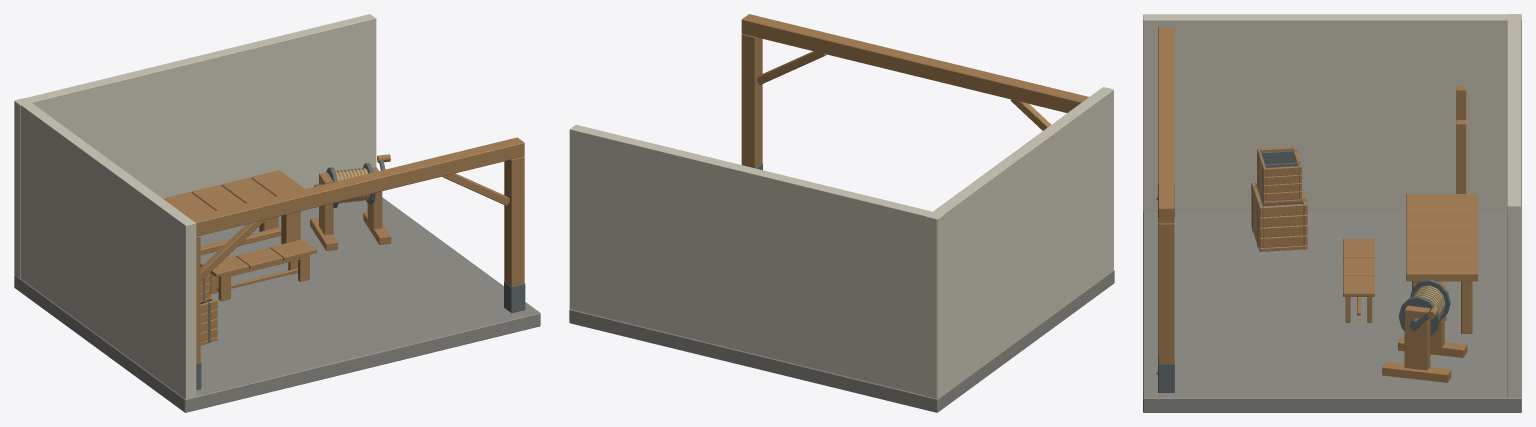
The picture shows the model from 3 angles, left to right: view 1: azimuth 30°, elevation 25°; view 2: azimuth 150°, elevation 25°; view 3: azimuth 270°, elevation 25°; orthographic projection. The views are drawn at different scales.
Visible parts, largest first — view 1: floor__ground, rear__wall, side__wall, front_frame__lintel, front_frame, table, bench, hand_winch, front_frame__knee_brace_-1, storage_lower, front_frame__post_-1, table__lower_stretcher (+2 smaller); view 2: rear__wall, side__wall, floor__ground, front_frame__lintel, front_frame; view 3: side__wall, floor__ground, table, rear__wall, front_frame__lintel, front_frame, storage_lower, hand_winch, bench, storage_upper, hand_winch__skid_right, spare_timber_1__beam (+5 smaller).
Boxes of the visible parts, x1=… form: floor__ground: x1=14, y1=197, x2=540, y2=412; rear__wall: x1=14, y1=14, x2=376, y2=278; side__wall: x1=15, y1=98, x2=196, y2=399; front_frame__lintel: x1=189, y1=137, x2=524, y2=236; front_frame: x1=442, y1=156, x2=525, y2=313; table: x1=163, y1=170, x2=304, y2=231; bench: x1=203, y1=239, x2=316, y2=293; hand_winch: x1=335, y1=163, x2=382, y2=233; front_frame__knee_brace_-1: x1=200, y1=220, x2=264, y2=280; storage_lower: x1=200, y1=297, x2=217, y2=343; front_frame__post_-1: x1=196, y1=235, x2=200, y2=363; table__lower_stretcher: x1=200, y1=227, x2=281, y2=255; rear__wall: x1=569, y1=124, x2=944, y2=398; side__wall: x1=926, y1=87, x2=1113, y2=398; floor__ground: x1=569, y1=269, x2=1114, y2=412; front_frame__lintel: x1=741, y1=14, x2=1088, y2=112; front_frame: x1=741, y1=34, x2=826, y2=170; side__wall: x1=1143, y1=14, x2=1521, y2=211; floor__ground: x1=1143, y1=212, x2=1521, y2=412; table: x1=1406, y1=194, x2=1478, y2=333; rear__wall: x1=1507, y1=14, x2=1520, y2=397; front_frame__lintel: x1=1158, y1=26, x2=1174, y2=223; front_frame: x1=1156, y1=223, x2=1174, y2=392; storage_lower: x1=1251, y1=182, x2=1307, y2=247; hand_winch: x1=1398, y1=285, x2=1445, y2=370; bench: x1=1343, y1=239, x2=1374, y2=322; storage_upper: x1=1257, y1=147, x2=1301, y2=201; hand_winch__skid_right: x1=1382, y1=362, x2=1451, y2=382; spare_timber_1__beam: x1=1456, y1=120, x2=1466, y2=193.
Bounding box in the file's own units: 6 × 3.02 × 5.
